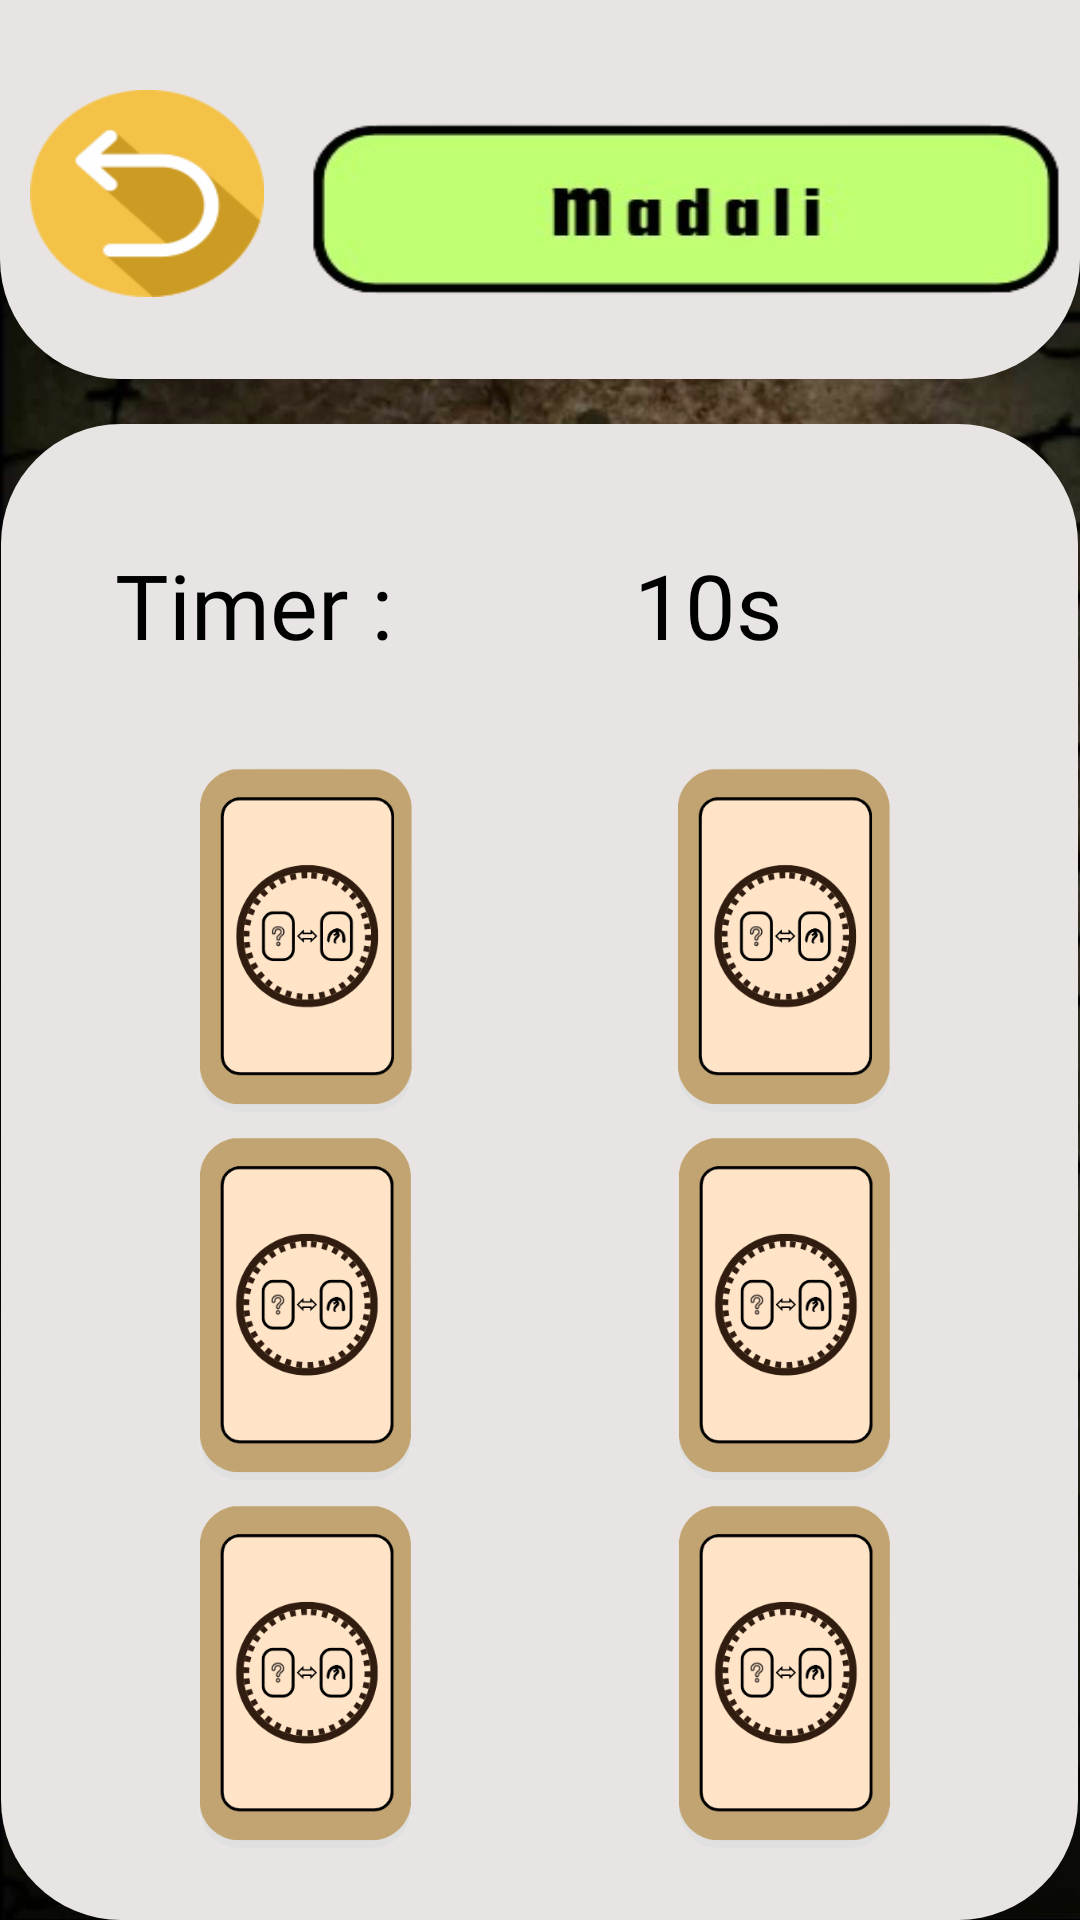

Icon click points for this 1080*1920 phone screenshot, format (x=x, y=y):
backcard: (x=306, y=936), (x=784, y=936), (x=305, y=1305), (x=784, y=1305), (x=305, y=1673), (x=784, y=1673)
undo: (x=147, y=193)
